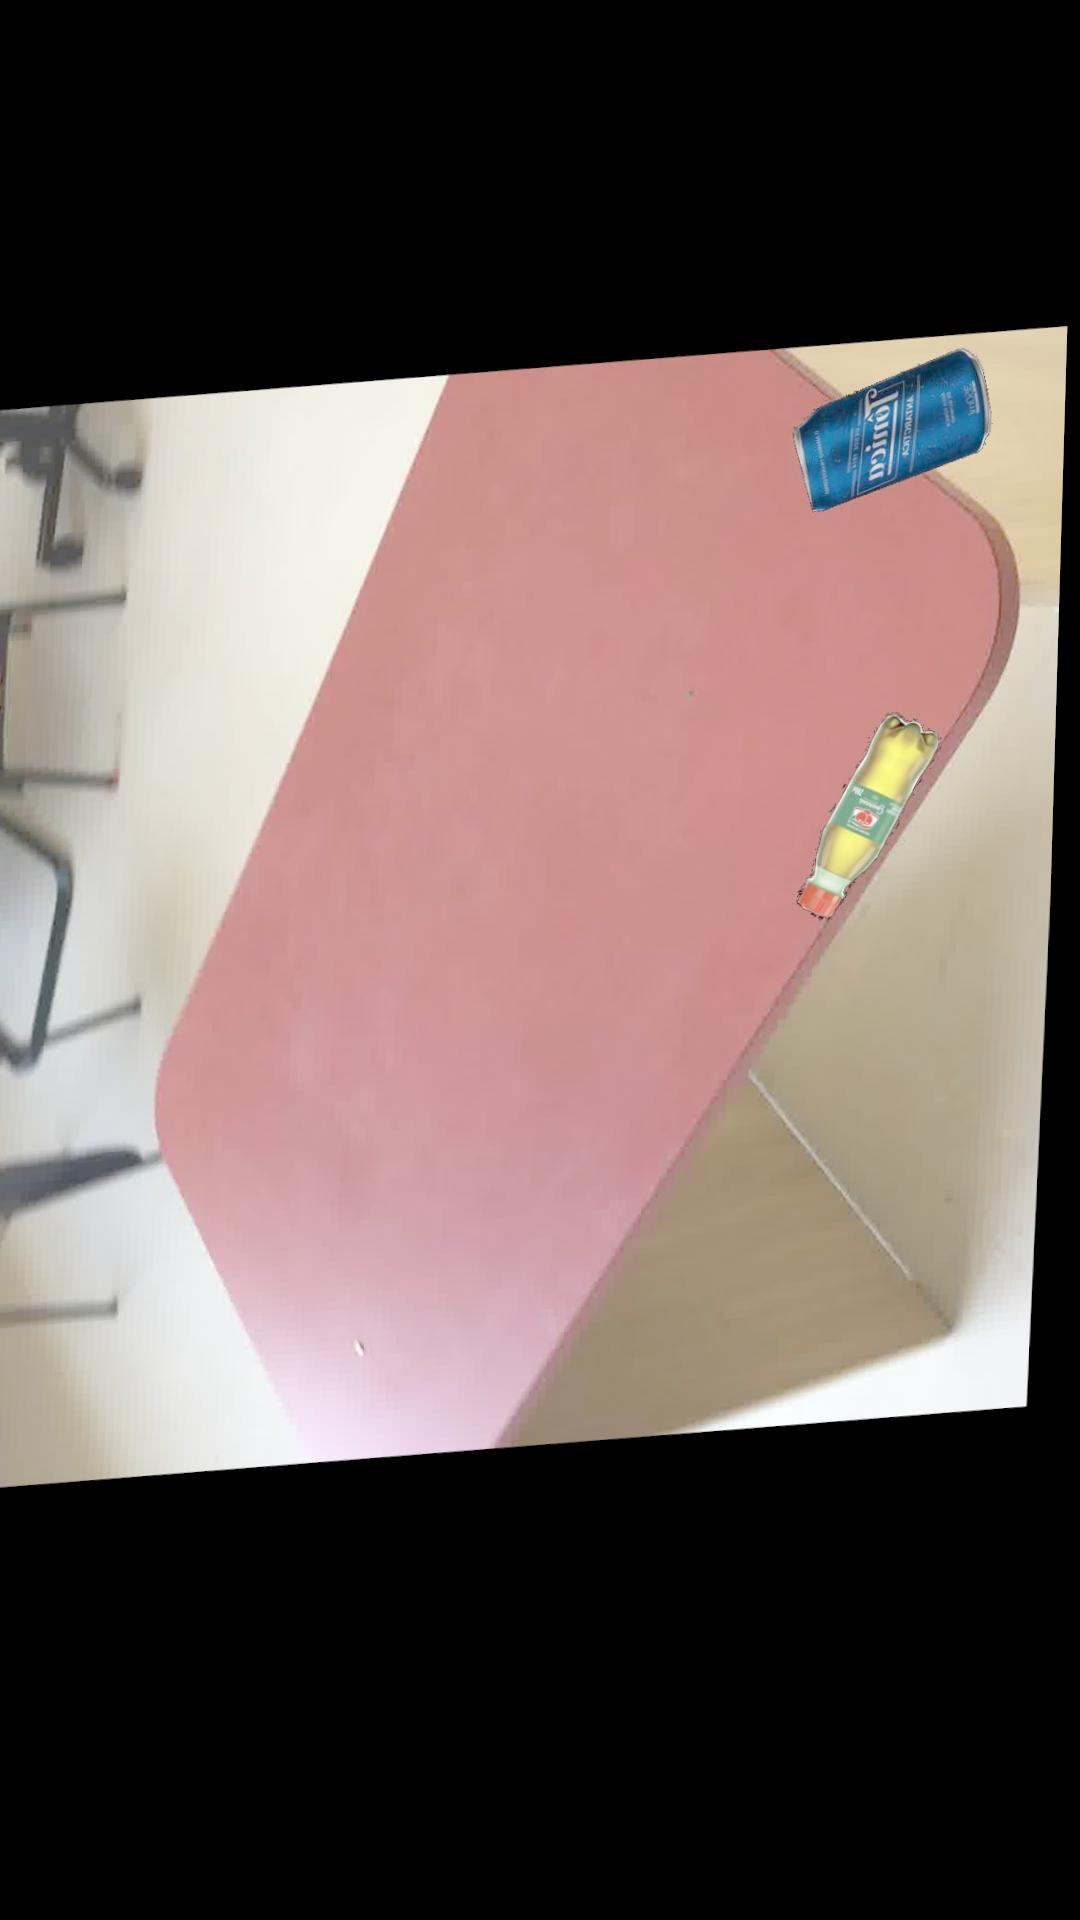guarana: (800, 729, 943, 935)
tonic: (795, 367, 993, 526)
